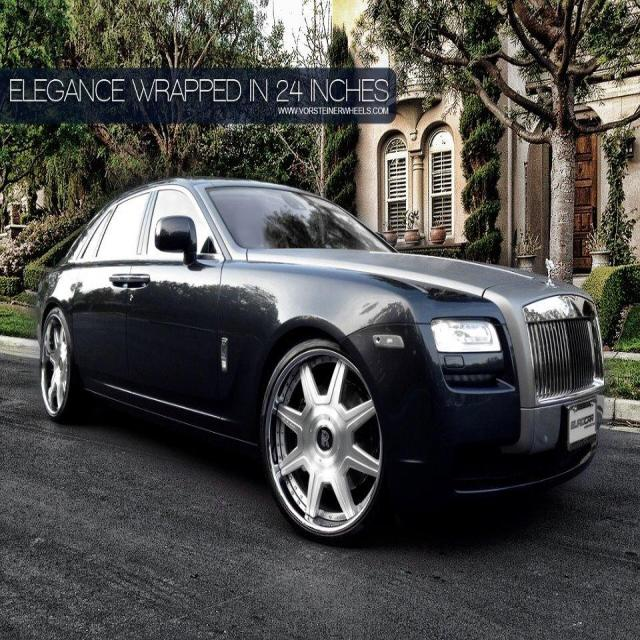Car: (29, 158, 616, 564)
